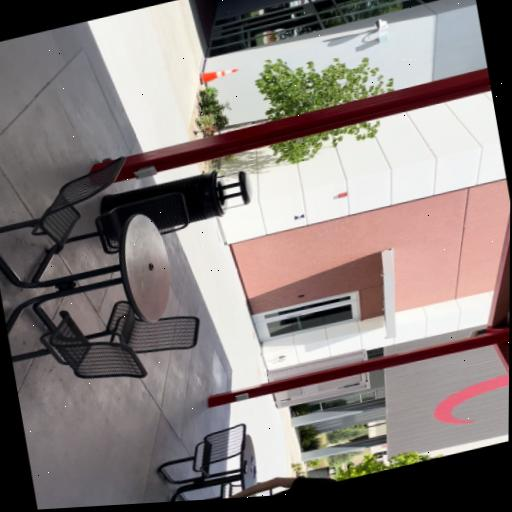target6: (293, 213, 304, 221)
